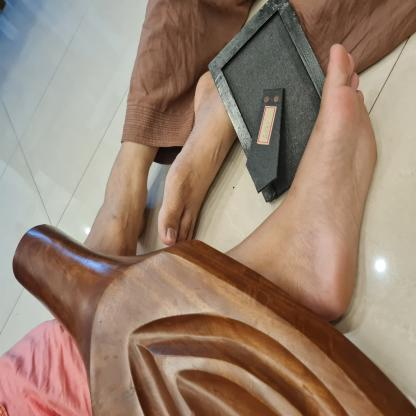leg: (228, 36, 382, 328), (154, 66, 236, 246)
